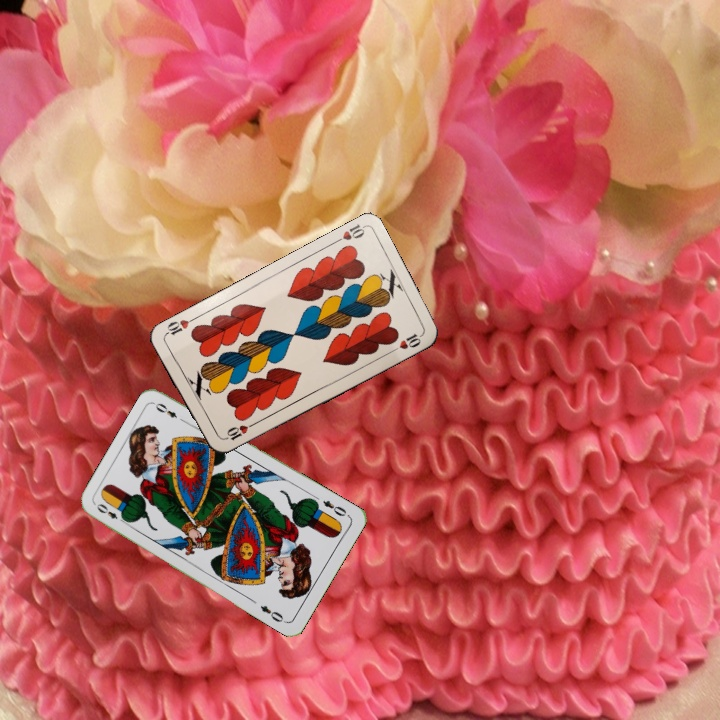EO: (92, 499, 129, 526), (319, 496, 349, 519)
H10: (329, 220, 367, 246), (220, 419, 258, 444)
